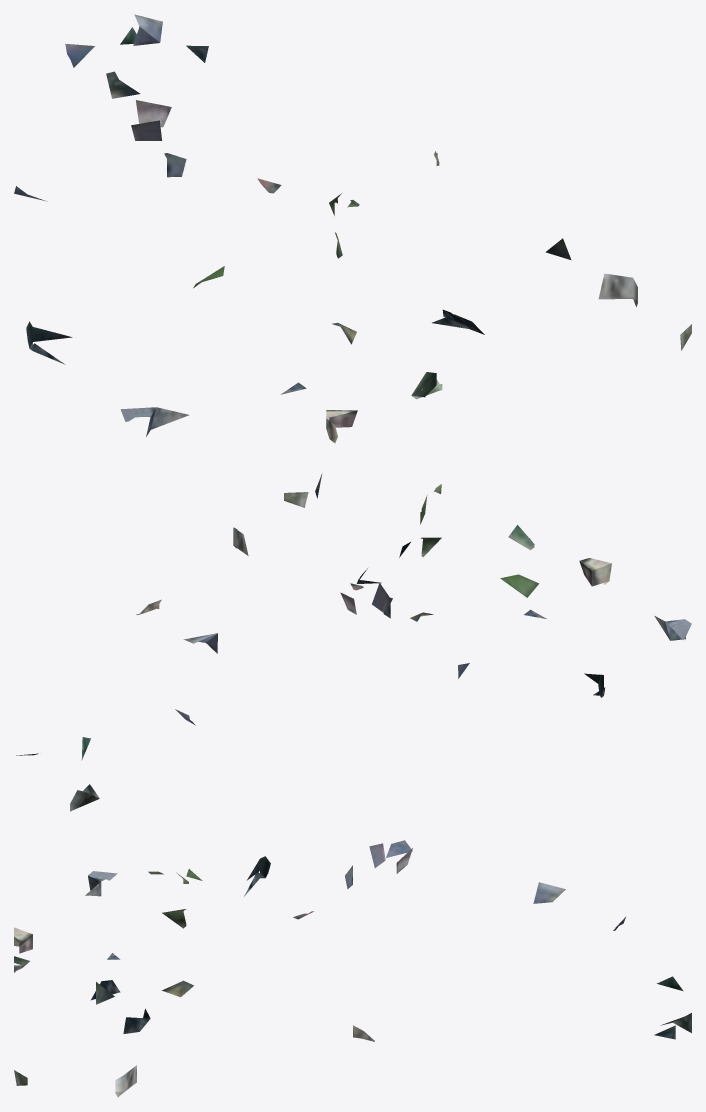
The picture shows the model from 3 angles, top to bottom: view 1: azimuth 30°, elevation 25°; view 2: azimuth 150°, elevation 25°; view 3: azimuth 270°, elevation 25°; orthographic projection. The views are drawn at different scales.
Parts seen in each view (by area): view 1: 3043627270436172660_1; view 2: 3043627270436172660_1; view 3: 3043627270436172660_1.
Part boxes in pixels (box(x1,y1,x2,y2)): 3043627270436172660_1: box(14, 14, 691, 443); 3043627270436172660_1: box(16, 473, 691, 811); 3043627270436172660_1: box(14, 840, 691, 1097).
Bounding box in the file's own units: 54.61 × 16.32 × 76.51.
Materials: 1 (1 with a texture image).
